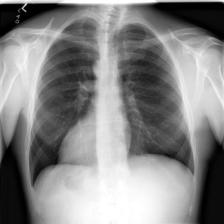normal: (24, 12, 198, 192)
